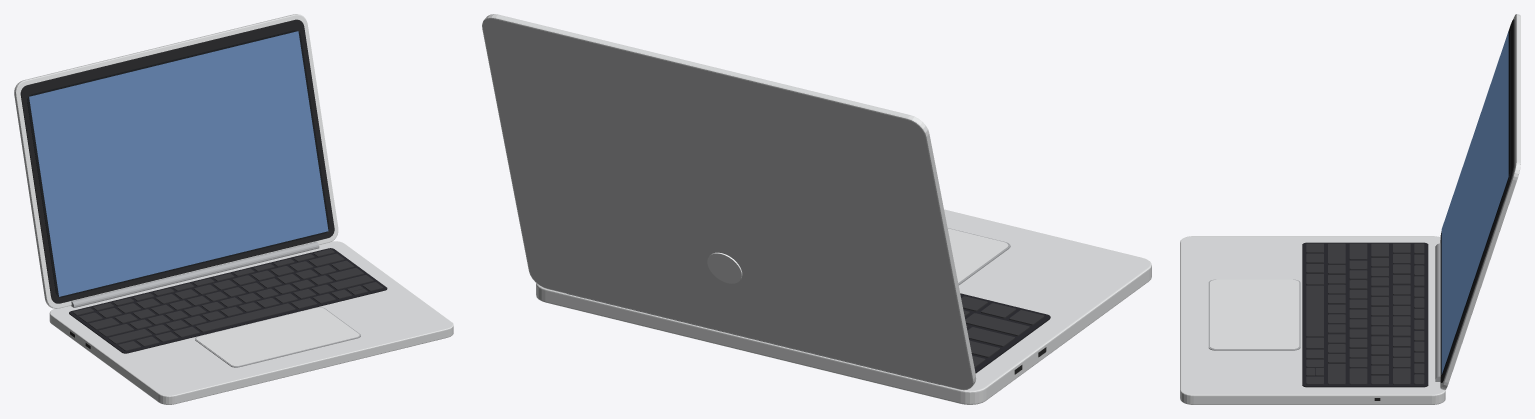
Rendered from macbook.glb.
The picture shows the model from 3 angles, left to right: view 1: azimuth 30°, elevation 25°; view 2: azimuth 150°, elevation 25°; view 3: azimuth 270°, elevation 25°; orthographic projection. The views are drawn at different scales.
Visible parts, largest first — view 1: MB_Display, MB_Base, MB_Keys, MB_Bezel, MB_KbWell, MB_Trackpad, MB_Lid, MB_Screen, MB_Hinge, MB_TrackpadBorder; view 2: MB_Lid, MB_Base, MB_Keys, MB_Trackpad, MB_KbWell, MB_Logo; view 3: MB_Base, MB_Keys, MB_Display, MB_KbWell, MB_Trackpad, MB_Lid, MB_Bezel, MB_Screen, MB_Hinge, MB_TrackpadBorder.
Boxes of the visible parts, <box> form: MB_Display: <box>29,31,328,296</box>; MB_Base: <box>49,241,453,404</box>; MB_Keys: <box>73,249,383,351</box>; MB_Bezel: <box>20,19,334,303</box>; MB_KbWell: <box>69,248,387,353</box>; MB_Trackpad: <box>196,307,359,366</box>; MB_Lid: <box>14,14,338,308</box>; MB_Screen: <box>27,30,329,297</box>; MB_Hinge: <box>71,241,319,307</box>; MB_TrackpadBorder: <box>195,307,360,367</box>; MB_Lid: <box>482,14,976,390</box>; MB_Base: <box>536,209,1151,404</box>; MB_Keys: <box>961,296,1044,367</box>; MB_Trackpad: <box>947,228,1008,282</box>; MB_KbWell: <box>960,293,1050,373</box>; MB_Logo: <box>707,252,742,283</box>; MB_Base: <box>1180,236,1445,404</box>; MB_Keys: <box>1306,243,1424,384</box>; MB_Display: <box>1441,31,1508,374</box>; MB_KbWell: <box>1302,242,1428,387</box>; MB_Trackpad: <box>1210,279,1299,349</box>; MB_Lid: <box>1440,14,1520,390</box>; MB_Bezel: <box>1440,19,1514,382</box>; MB_Screen: <box>1442,31,1510,375</box>; MB_Hinge: <box>1435,243,1440,381</box>; MB_TrackpadBorder: <box>1208,279,1300,350</box>.
Bounding box in the file's own units: 0.3044 × 0.2117 × 0.2745.
